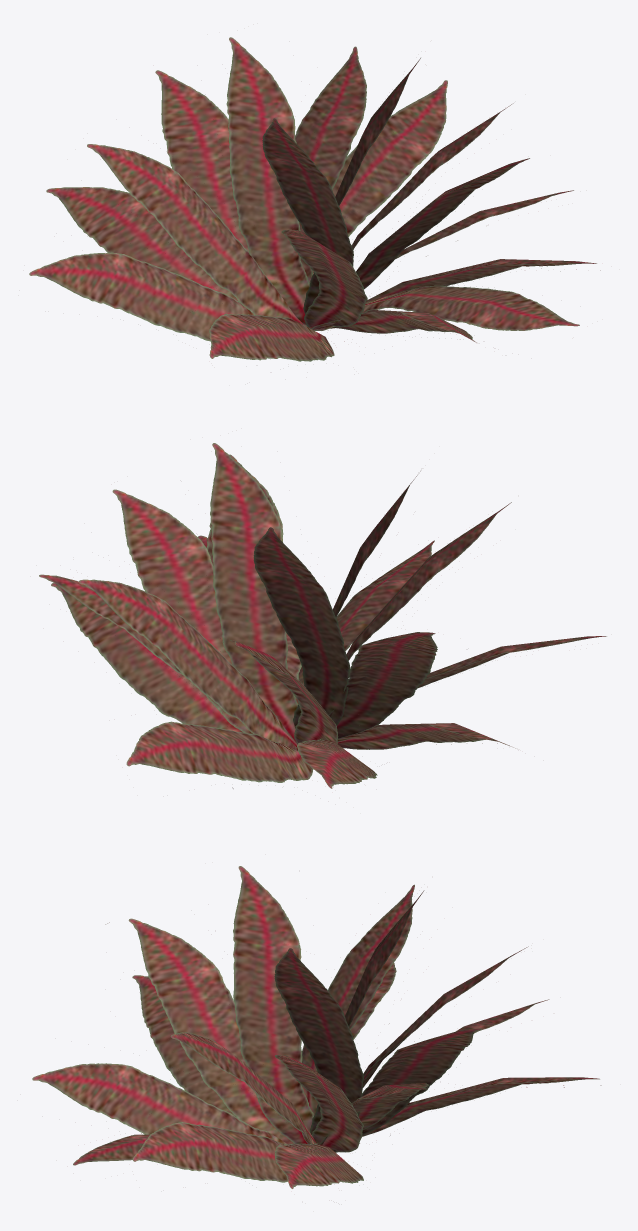
Rendered from plant7.FBX.
The picture shows the model from 3 angles, top to bottom: view 1: azimuth 30°, elevation 25°; view 2: azimuth 150°, elevation 25°; view 3: azimuth 270°, elevation 25°; orthographic projection. The views are drawn at different scales.
Parts seen in each view (by area): view 1: plant7; view 2: plant7; view 3: plant7.
Part boxes in pixels (x1=…): plant7: x1=29, y1=37, x2=600, y2=361; plant7: x1=39, y1=443, x2=606, y2=788; plant7: x1=32, y1=866, x2=601, y2=1188.
Bounding box in the file's own units: 4.09 × 2.12 × 4.08.
